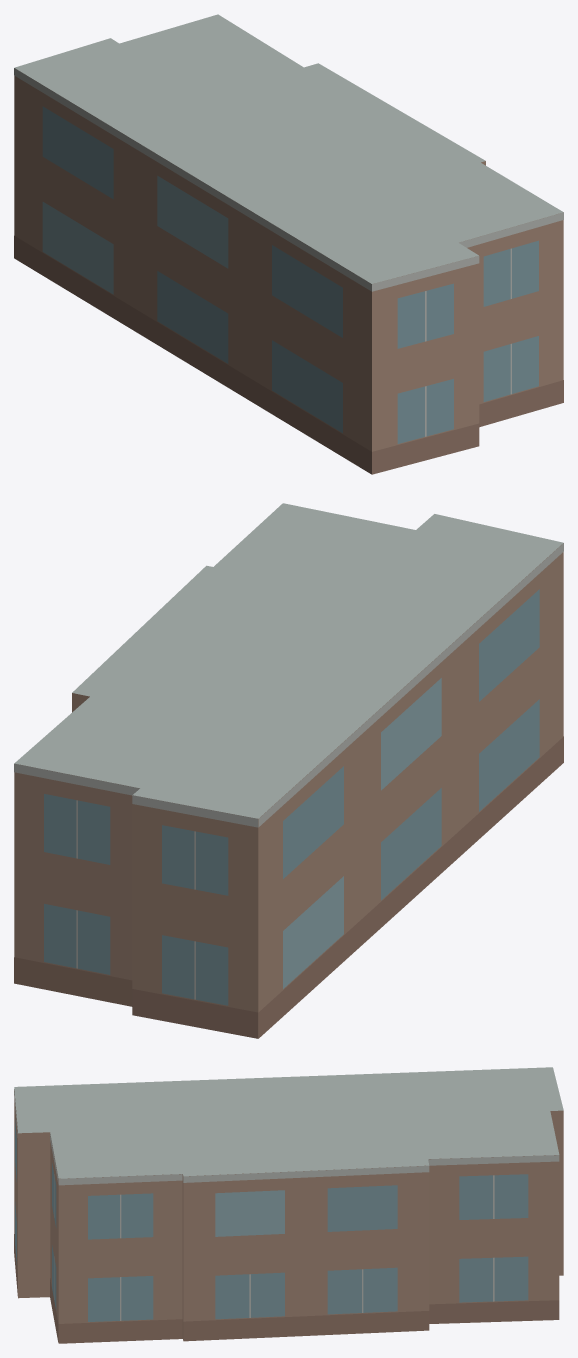
Rendered from survey-upis-32680225.glb.
The picture shows the model from 3 angles, top to bottom: view 1: azimuth 30°, elevation 25°; view 2: azimuth 150°, elevation 25°; view 3: azimuth 270°, elevation 25°; orthographic projection. The views are drawn at different scales.
Parts seen in each view (by area): view 1: survey-upis-32680225.tmp; view 2: survey-upis-32680225.tmp; view 3: survey-upis-32680225.tmp.
Part boxes in pixels (x1=…): survey-upis-32680225.tmp: x1=14, y1=14, x2=563, y2=474; survey-upis-32680225.tmp: x1=14, y1=503, x2=563, y2=1038; survey-upis-32680225.tmp: x1=14, y1=1067, x2=563, y2=1343.
Bounding box in the file's own units: 8.87 × 6.1 × 18.44.
